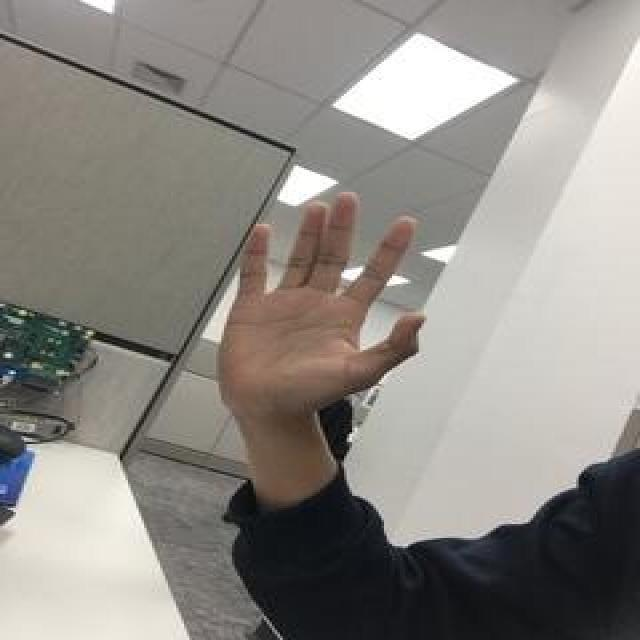hand: (216, 190, 432, 422)
